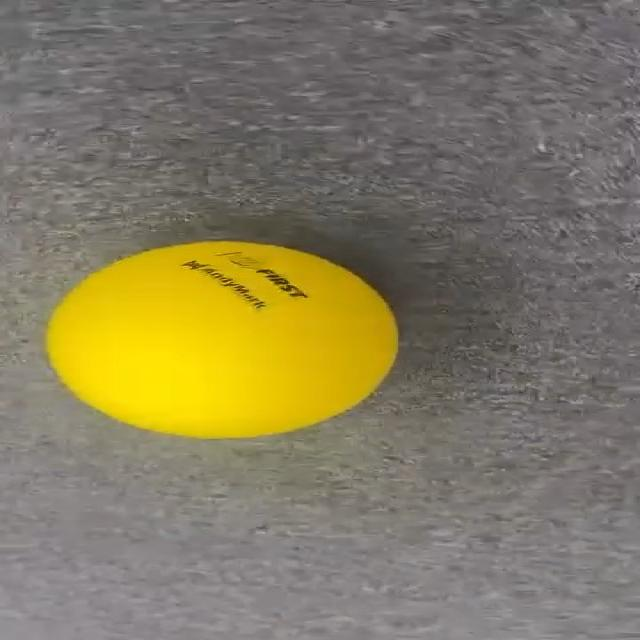Fuels: (48, 241, 395, 437)
